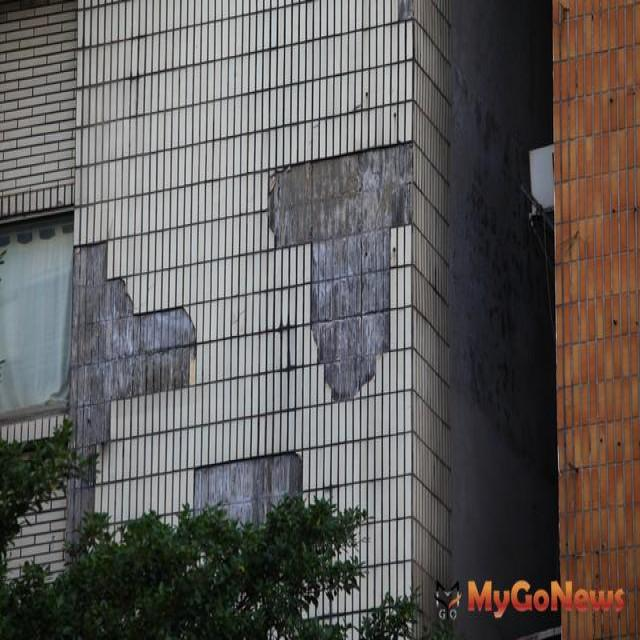tile: (72, 238, 196, 558), (268, 141, 416, 402), (194, 452, 302, 523)
